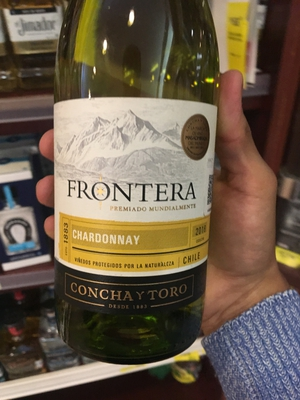frontera chardonnay: (55, 6, 219, 348)
